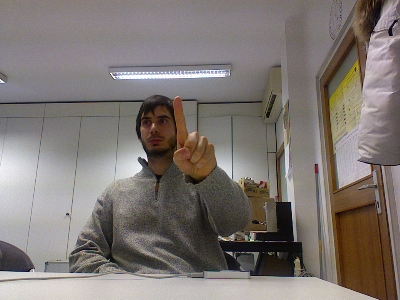食指: (171, 95, 217, 179)
